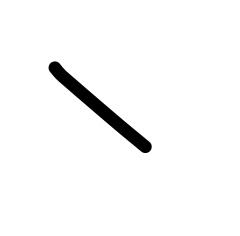b: (31, 54, 194, 176)
